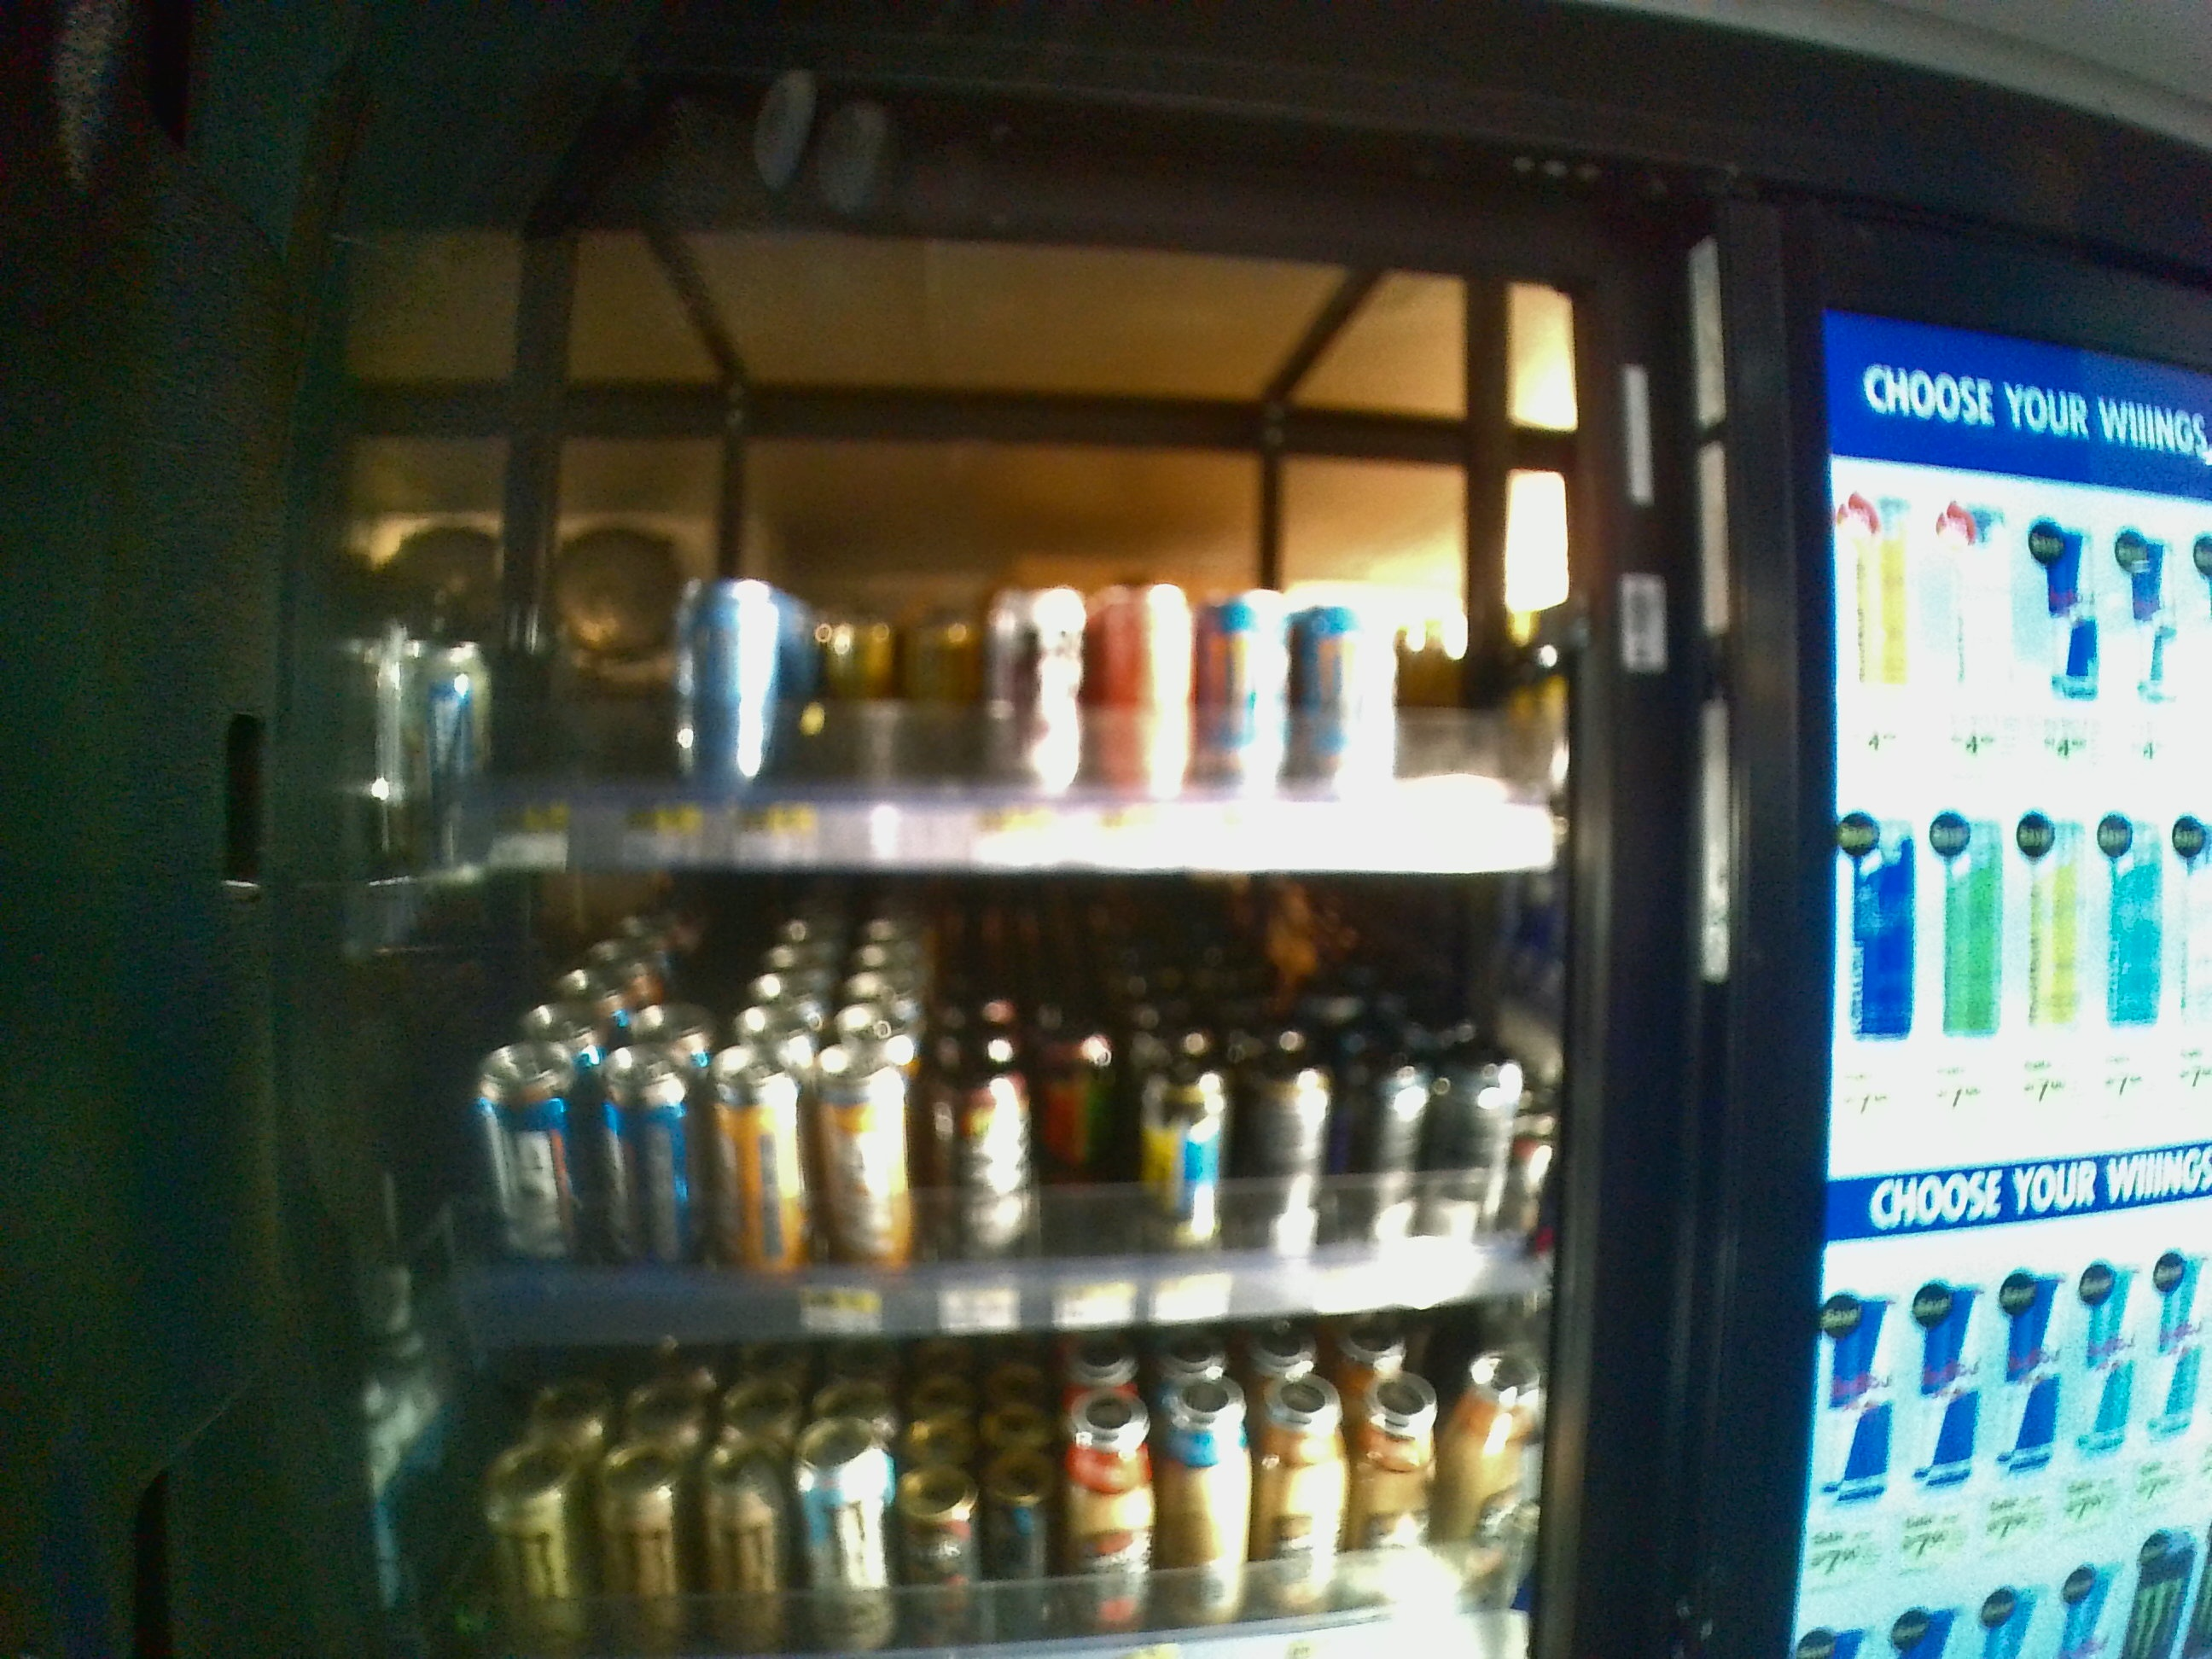shelf: (444, 235, 1594, 871), (415, 871, 1587, 1340)
